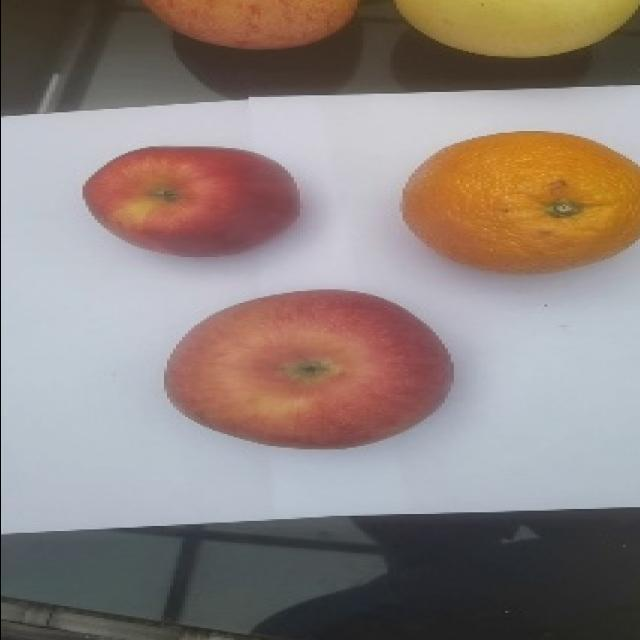Apple: (163, 288, 454, 449), (81, 145, 300, 257), (140, 0, 359, 50)
Orange: (400, 129, 639, 273)
